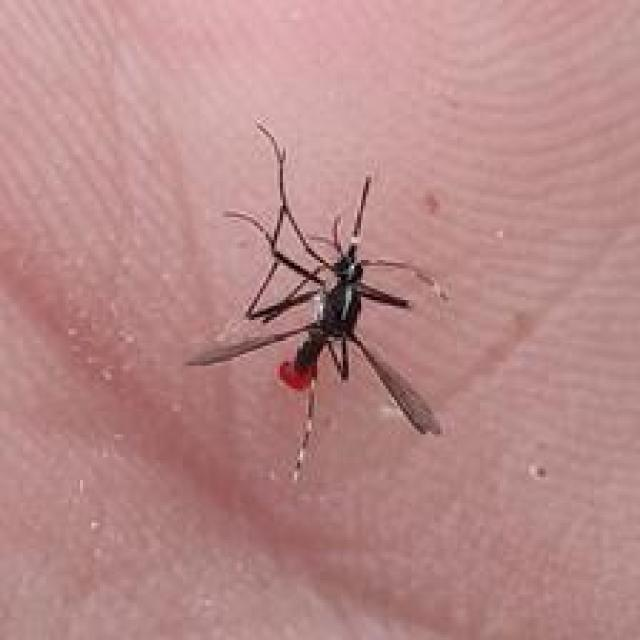Aedes albopictus: (183, 119, 451, 482)
